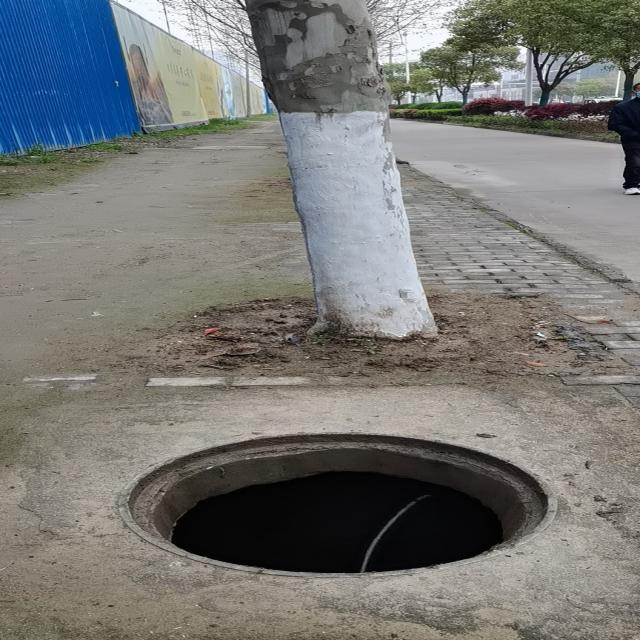Uncovered: (114, 429, 562, 579)
